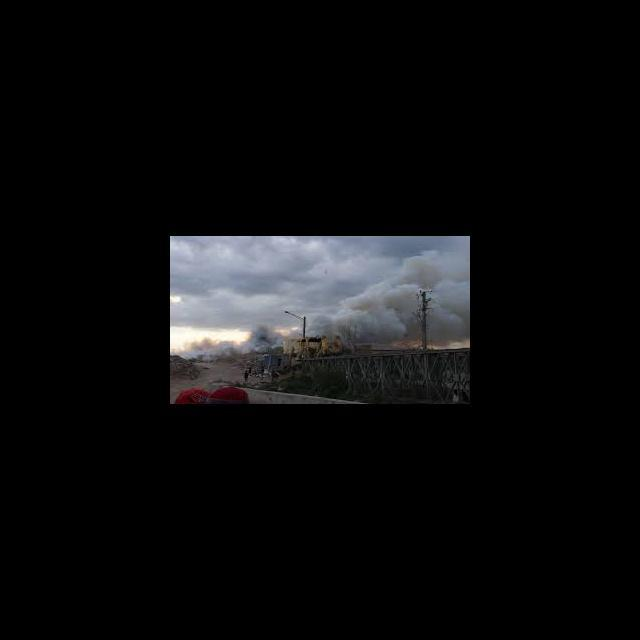Smoke: (186, 249, 470, 362)
